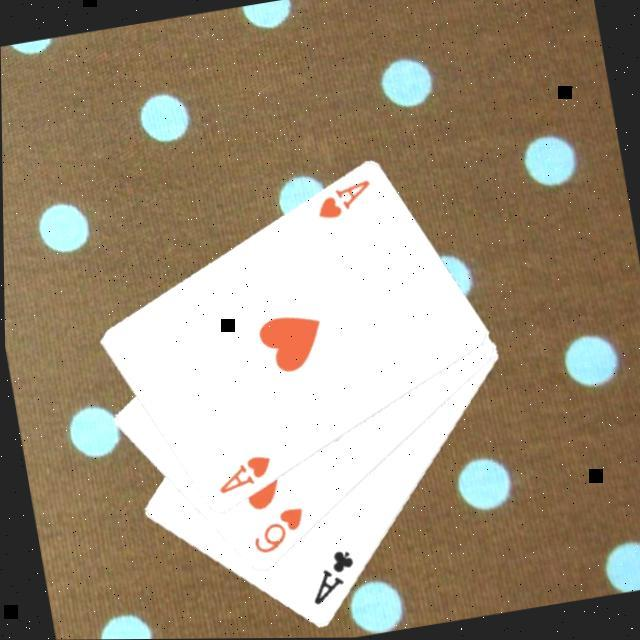6H: (242, 502, 310, 559)
AC: (298, 544, 361, 610)
AH: (308, 176, 377, 224), (208, 450, 276, 498)
